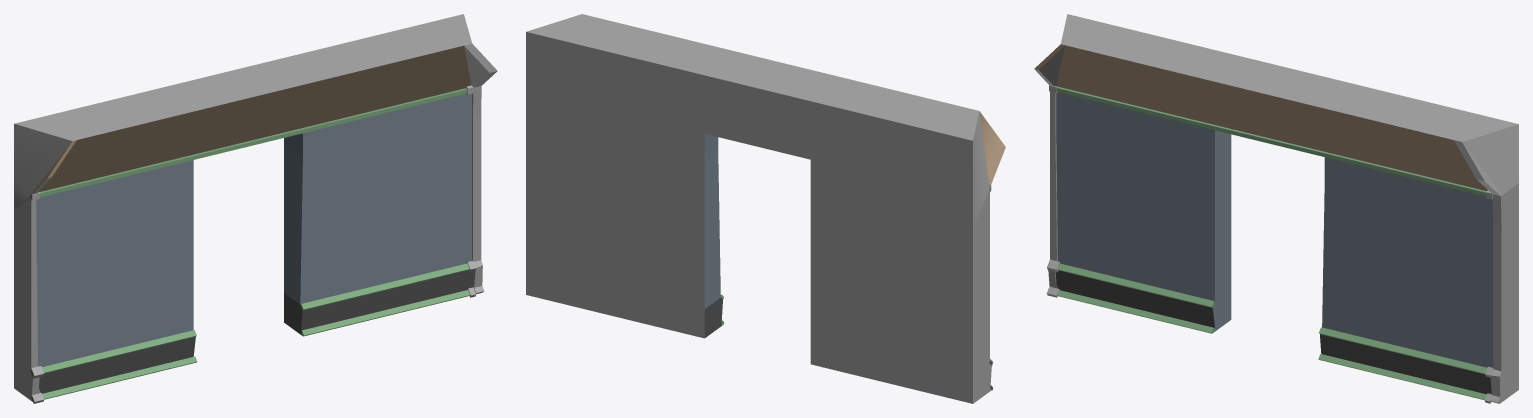
Rendered from Wall_Door.fbx.
The picture shows the model from 3 angles, left to right: view 1: azimuth 30°, elevation 25°; view 2: azimuth 150°, elevation 25°; view 3: azimuth 330°, elevation 25°; orthographic projection.
Visible parts, largest first — view 1: Wall_Door; view 2: Wall_Door; view 3: Wall_Door.
Boxes of the visible parts, x1,y1,x2,y2 form: Wall_Door: (14, 14, 497, 403); Wall_Door: (526, 14, 1005, 403); Wall_Door: (1034, 14, 1518, 403).
Bounding box in the file's own units: 800 × 452 × 105.
